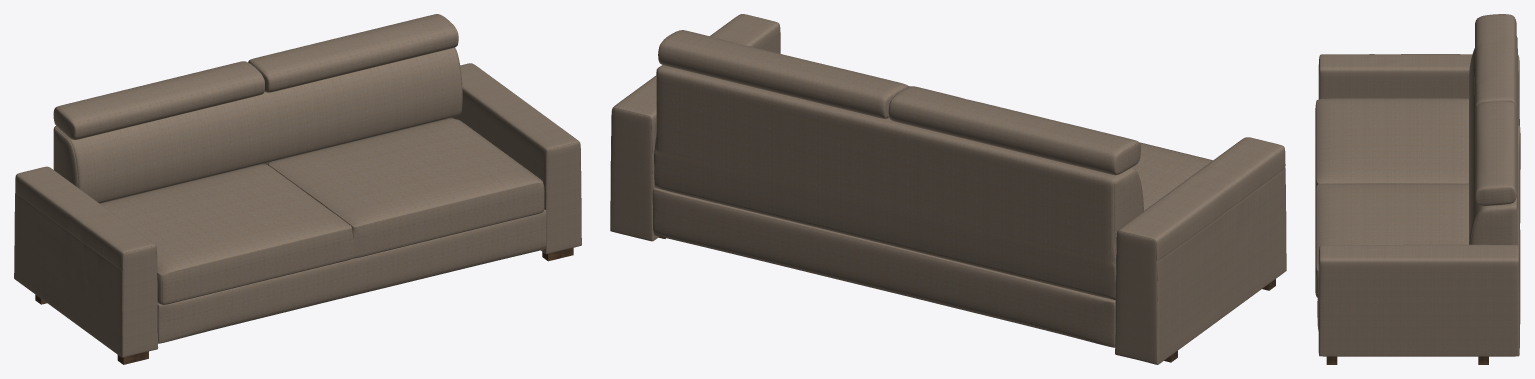
The model's file is Tapicerk_i_krzesla_milton_3_osobowy.obj.
The picture shows the model from 3 angles, left to right: view 1: azimuth 30°, elevation 25°; view 2: azimuth 150°, elevation 25°; view 3: azimuth 270°, elevation 25°; orthographic projection. The views are drawn at different scales.
Visible parts, largest first — view 1: Box002, Line002, Box003, Box038, Box040, Box039, Box041; view 2: Line002, Box003, Box038, Box039, Box041, Box040, Box002; view 3: Box002, Box040, Box003, Box041, Box039, Line002, Box038.
Boxes of the visible parts, bbox=[...] form: Box002: bbox=[100, 118, 544, 304]; Line002: bbox=[53, 47, 462, 203]; Box003: bbox=[14, 166, 158, 357]; Box038: bbox=[157, 209, 546, 343]; Box040: bbox=[452, 63, 581, 254]; Box039: bbox=[53, 61, 264, 139]; Box041: bbox=[248, 14, 458, 92]; Line002: bbox=[654, 65, 1143, 299]; Box003: bbox=[1115, 137, 1286, 364]; Box038: bbox=[652, 188, 1115, 347]; Box039: bbox=[888, 86, 1140, 175]; Box041: bbox=[658, 30, 908, 118]; Box040: bbox=[610, 14, 780, 241]; Box002: bbox=[909, 86, 1212, 210]; Box002: bbox=[1315, 98, 1468, 297]; Box040: bbox=[1318, 244, 1519, 356]; Box003: bbox=[1318, 54, 1519, 125]; Box041: bbox=[1475, 101, 1516, 205]; Box039: bbox=[1474, 14, 1516, 109]; Line002: bbox=[1469, 36, 1517, 245]; Box038: bbox=[1317, 125, 1520, 330].
Size of the model in its own units: 222 by 82.35 by 93.18.
